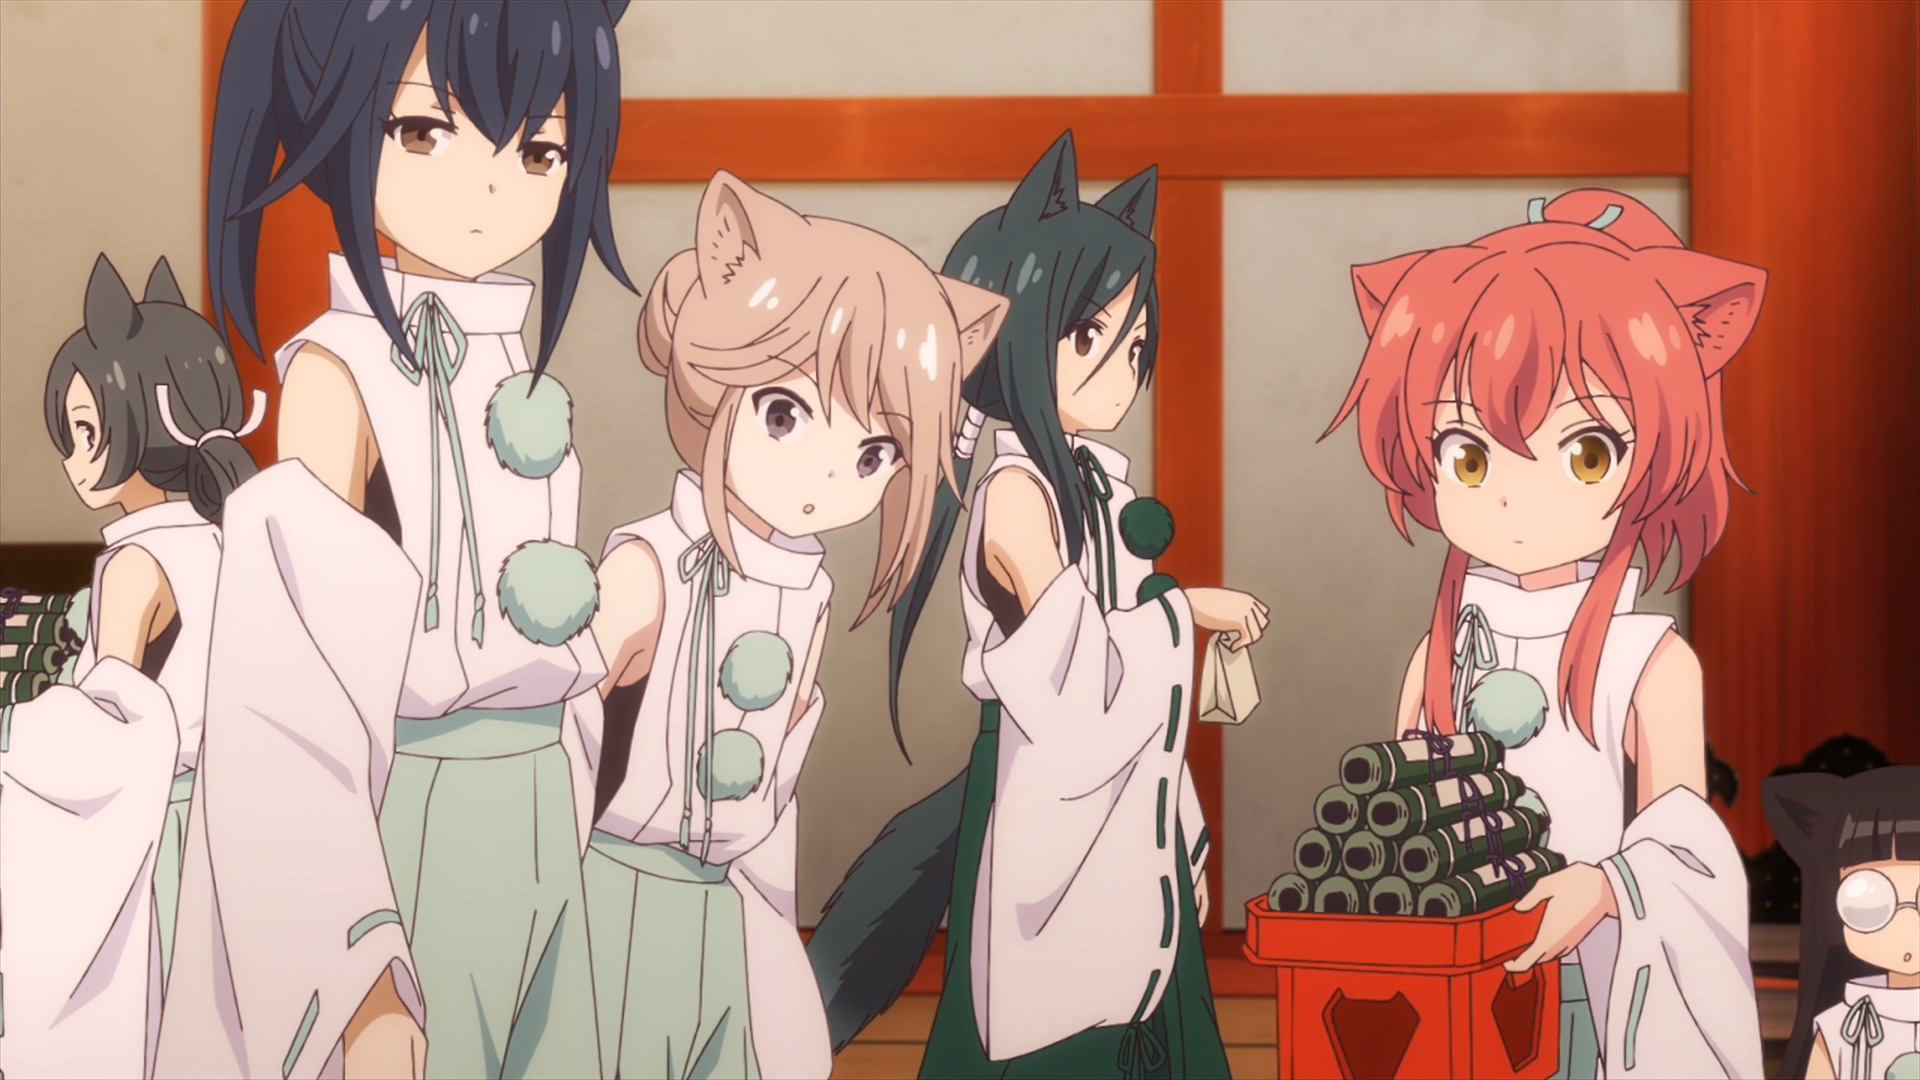其他: (152, 1, 641, 1080), (808, 131, 1274, 1080), (562, 171, 1011, 1080), (1, 252, 265, 1080), (1763, 765, 1920, 1080)
椿: (1316, 189, 1768, 1080)
